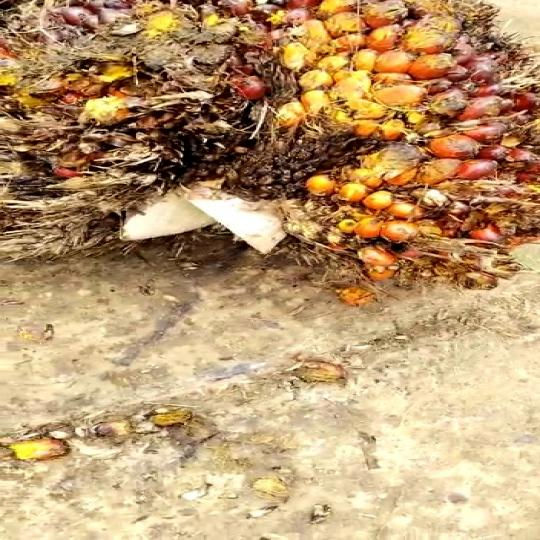masak: (0, 0, 540, 312)
